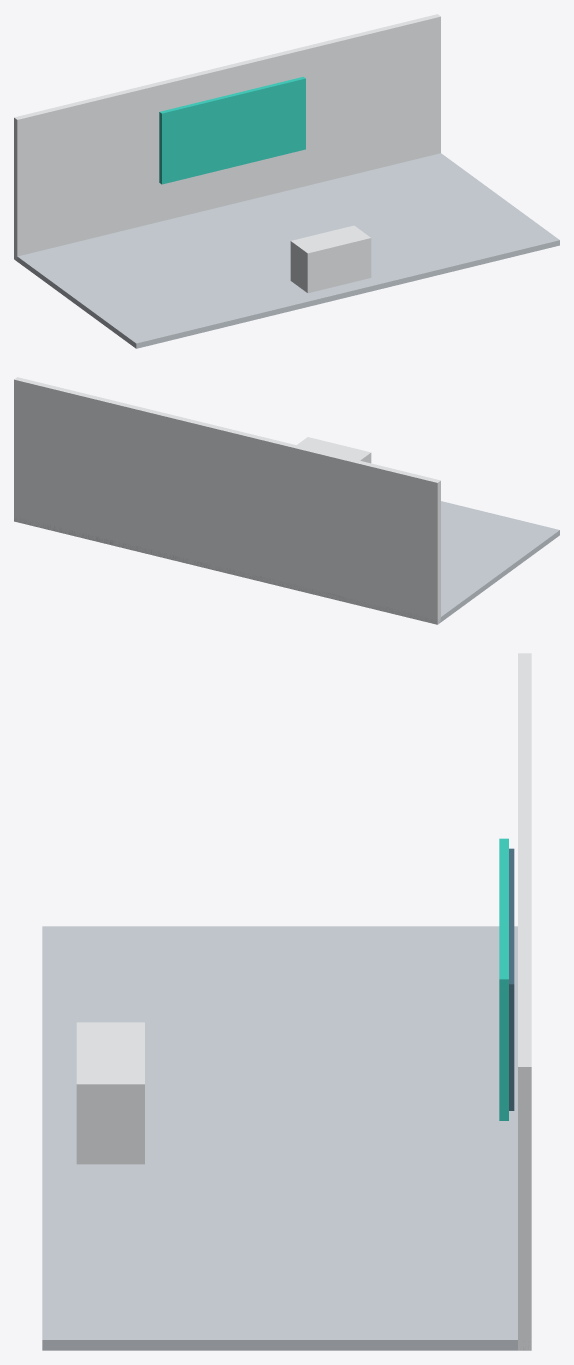
3 views of the same model, one above another, from view 1: azimuth 30°, elevation 25°; view 2: azimuth 150°, elevation 25°; view 3: azimuth 270°, elevation 25° (orthographic). The views are drawn at different scales.
Visible parts, largest first — view 1: Exhibition Booth Concept; view 2: Exhibition Booth Concept; view 3: Exhibition Booth Concept.
Boxes of the visible parts, left/top/right/bottom form: Exhibition Booth Concept: left=14, top=14, right=559, bottom=348; Exhibition Booth Concept: left=14, top=377, right=559, bottom=624; Exhibition Booth Concept: left=42, top=653, right=531, bottom=1350.
Bounding box in the file's own units: 10 × 3.2 × 5.
